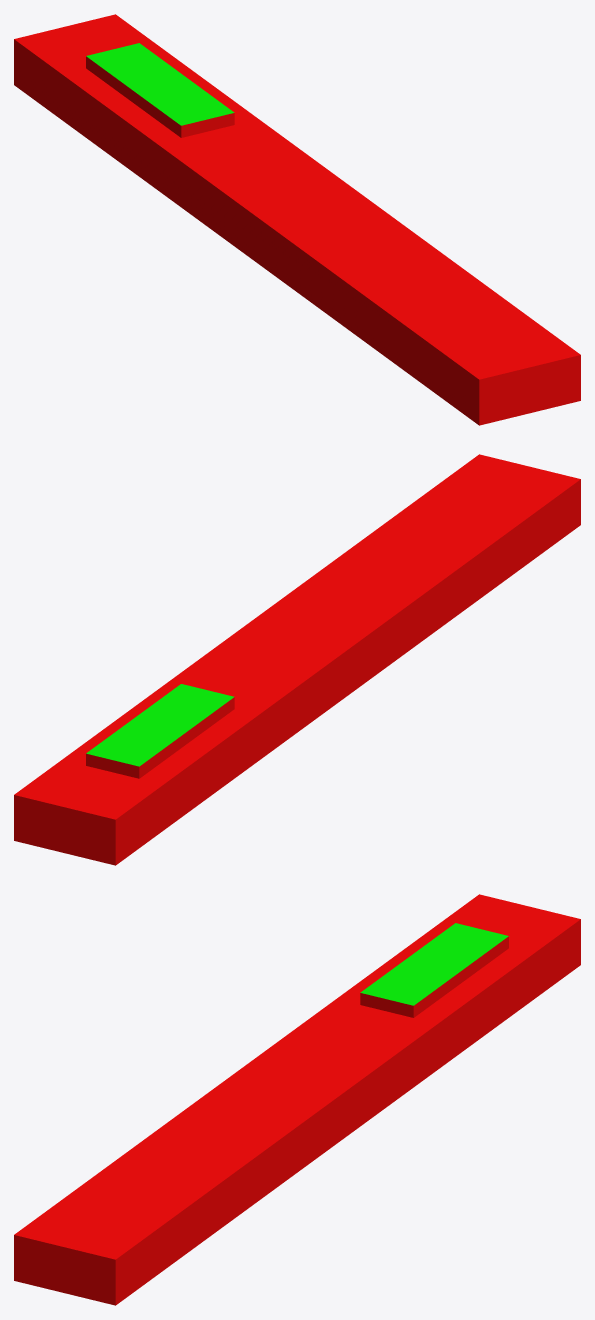
Rendered from labeled.obj.
The picture shows the model from 3 angles, top to bottom: view 1: azimuth 30°, elevation 25°; view 2: azimuth 150°, elevation 25°; view 3: azimuth 330°, elevation 25°; orthographic projection.
Size of the model in its own units: 0.0189 by 0.0103 by 0.1501.
